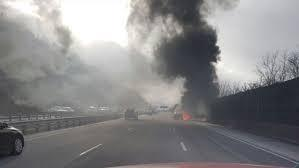fire: (171, 108, 205, 124)
smoke: (0, 1, 132, 109), (127, 0, 225, 112)
